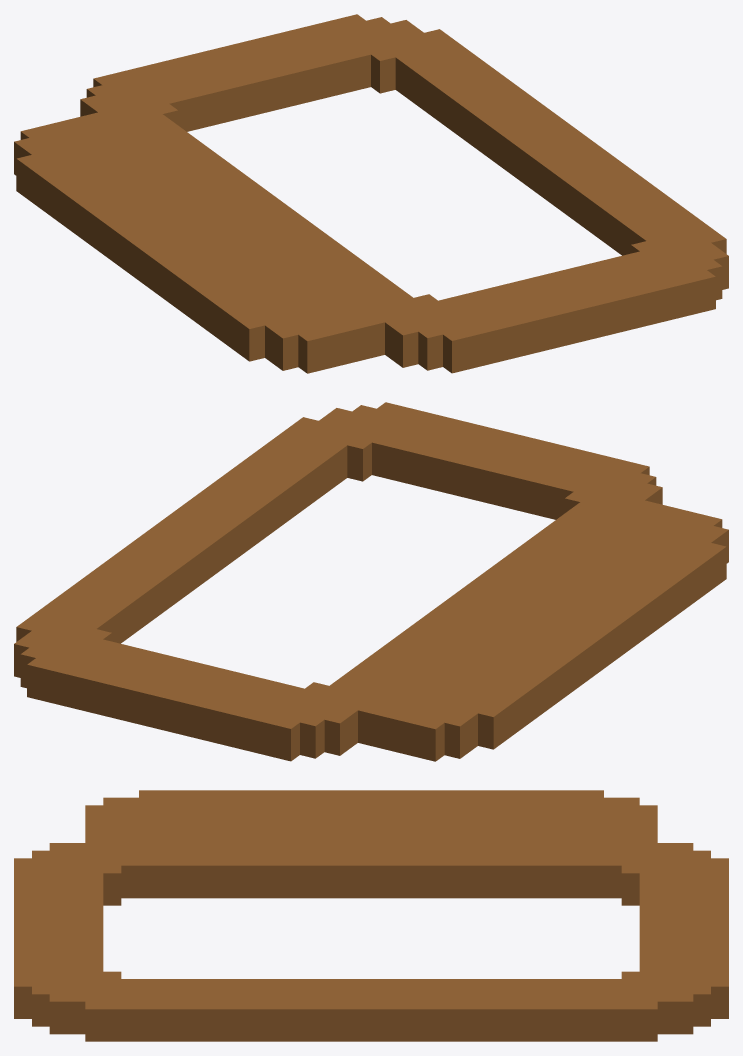
Rendered from badge-0.obj.
The picture shows the model from 3 angles, top to bottom: view 1: azimuth 30°, elevation 25°; view 2: azimuth 150°, elevation 25°; view 3: azimuth 270°, elevation 25°; orthographic projection.
Size of the model in its own units: 2.9 by 0.2 by 4.
Materials: 1 (1 with a texture image).
